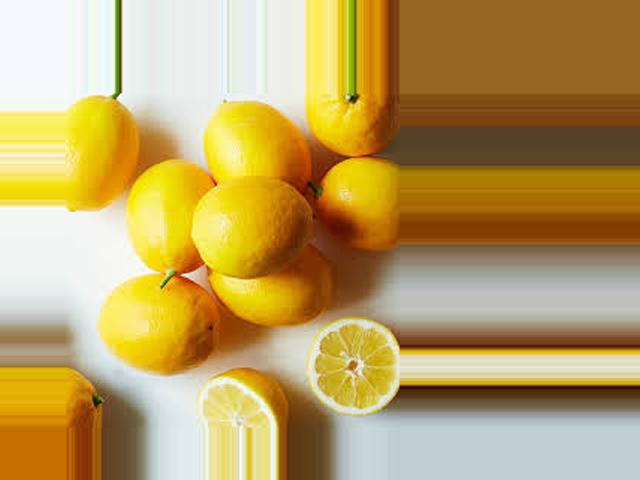lemon: (313, 156, 397, 245)
